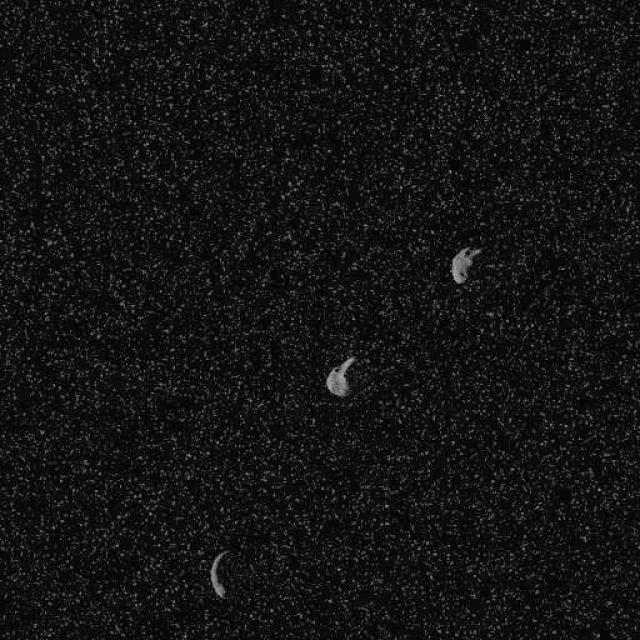D2: (325, 355, 356, 397), (449, 245, 481, 285), (208, 549, 232, 599)
